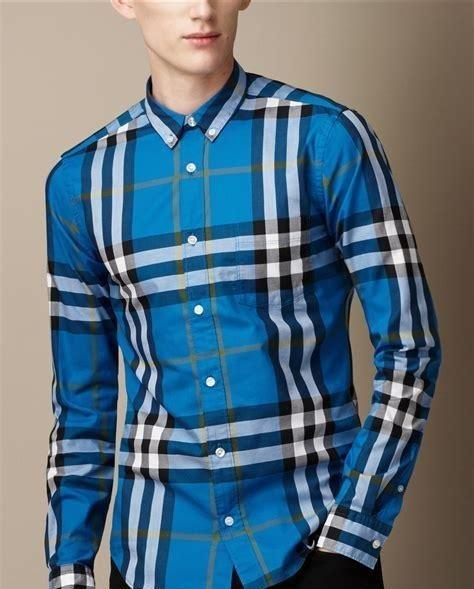shirt: (45, 56, 442, 589)
